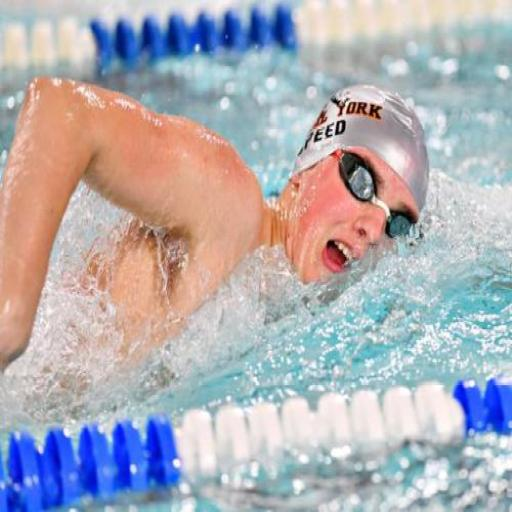swimming: (0, 73, 432, 414)
